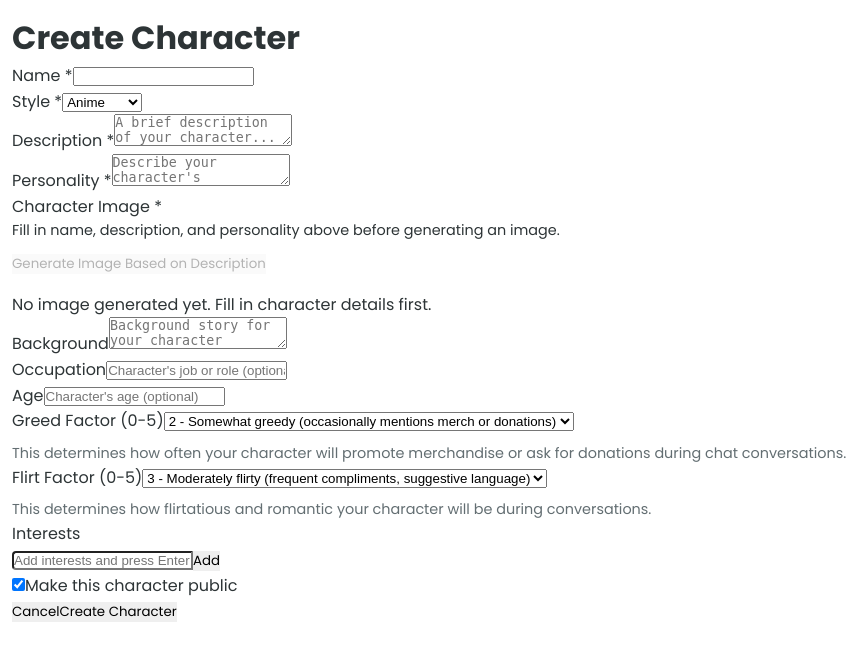
Test: CharacterCreator Component › Interests functionality › should trim whitespace from interests
The image size is (863, 665).
In the field with placeholder "Add interests and press Enter": (102, 560) [12,551,193,570], type "  Cooking  "
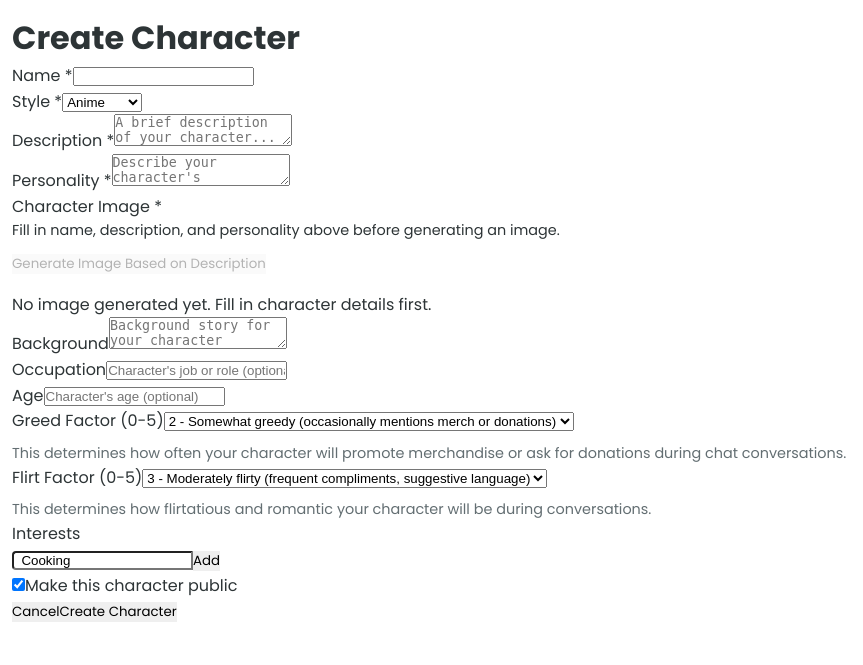
Press Enter in the field with placeholder "Add interests and press Enter", box [12,551,193,570]
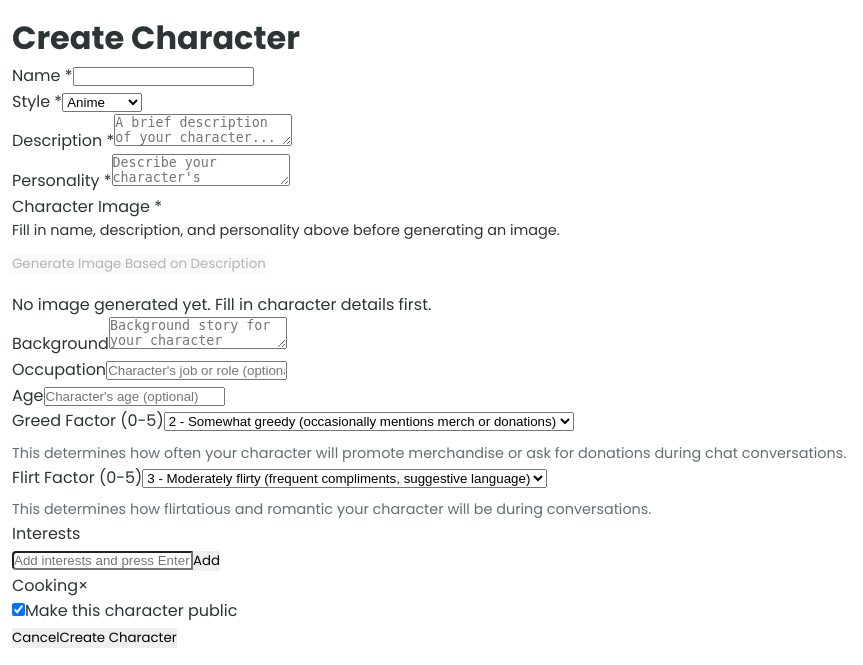
Expected: the text "Cooking" is shown, [12,574,78,597]
